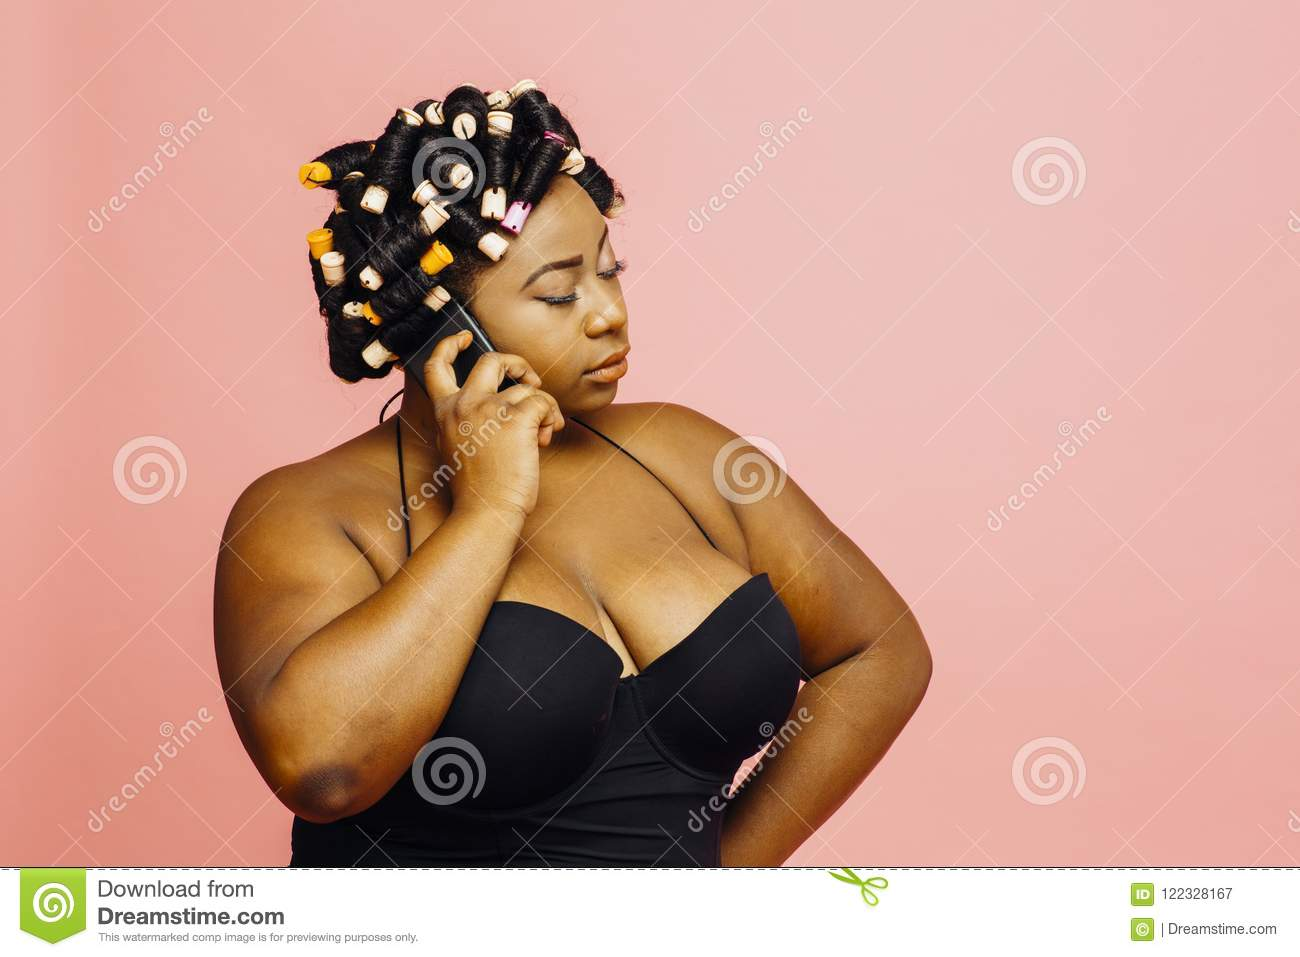phone: (407, 293, 518, 409)
talk: (399, 226, 633, 537)
